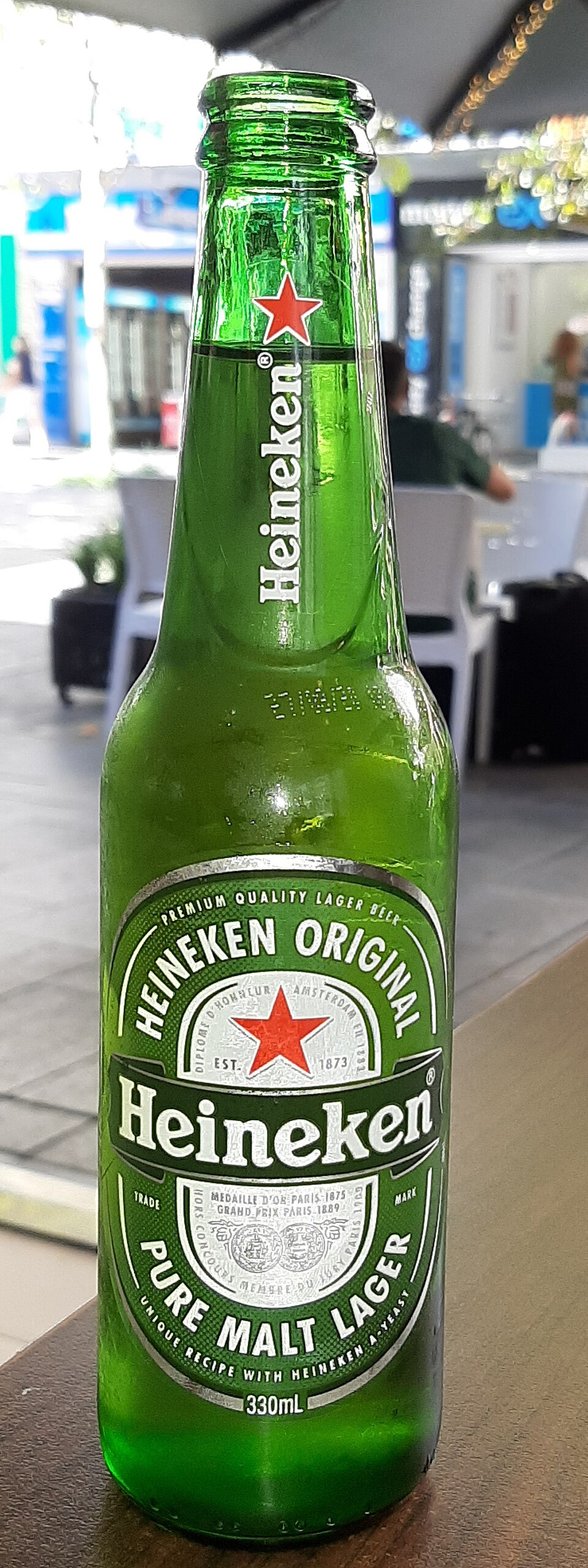beer-bottle: (70, 48, 477, 1560)
